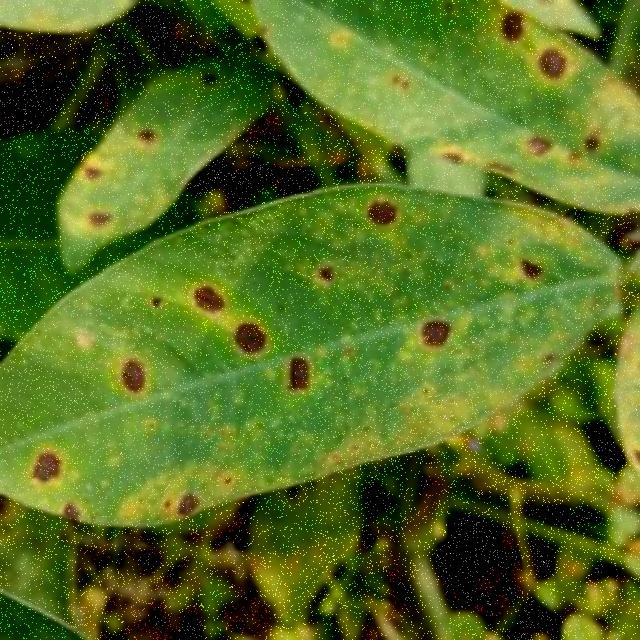leaf_spot: (6, 184, 631, 536), (258, 5, 640, 170)
